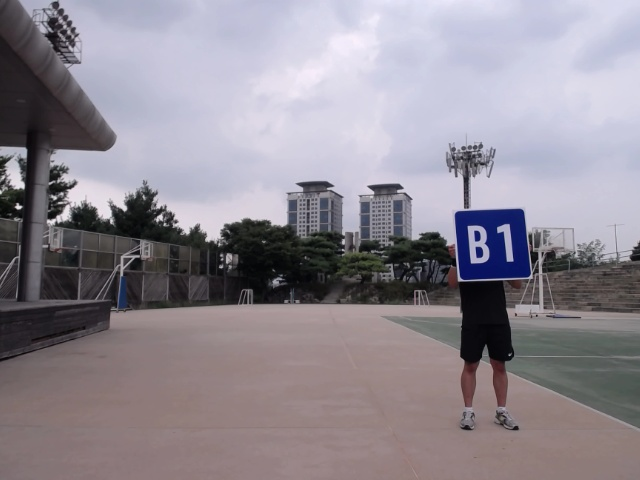delivery_b1: (452, 207, 533, 281)
